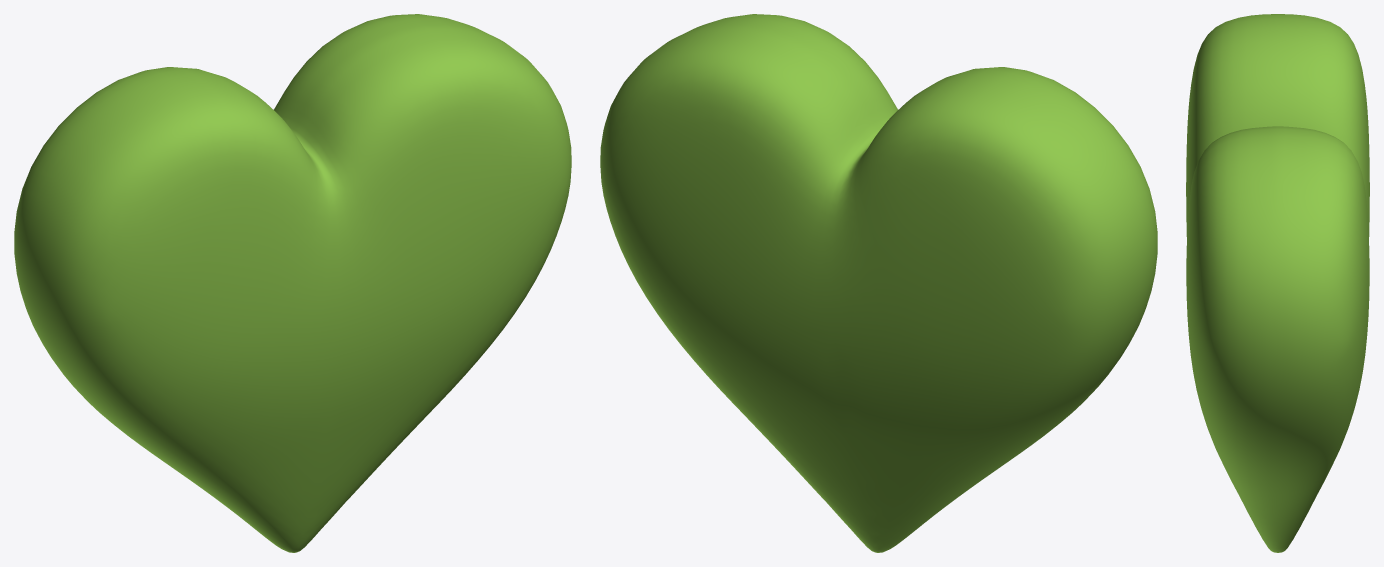
Rendered from green_heart.glb.
3 views of the same model, side by side, from view 1: azimuth 30°, elevation 25°; view 2: azimuth 150°, elevation 25°; view 3: azimuth 270°, elevation 25° (orthographic). The views are drawn at different scales.
Parts seen in each view (by area): view 1: hfdjkslfjkds.021; view 2: hfdjkslfjkds.021; view 3: hfdjkslfjkds.021.
Part boxes in pixels (x1,y1,x2,y2): hfdjkslfjkds.021: (14, 14, 571, 552); hfdjkslfjkds.021: (600, 14, 1157, 552); hfdjkslfjkds.021: (1186, 14, 1369, 552).
Size of the model in its own units: 1.86 by 1.68 by 0.5956.
Materials: 1 (1 with a texture image).
